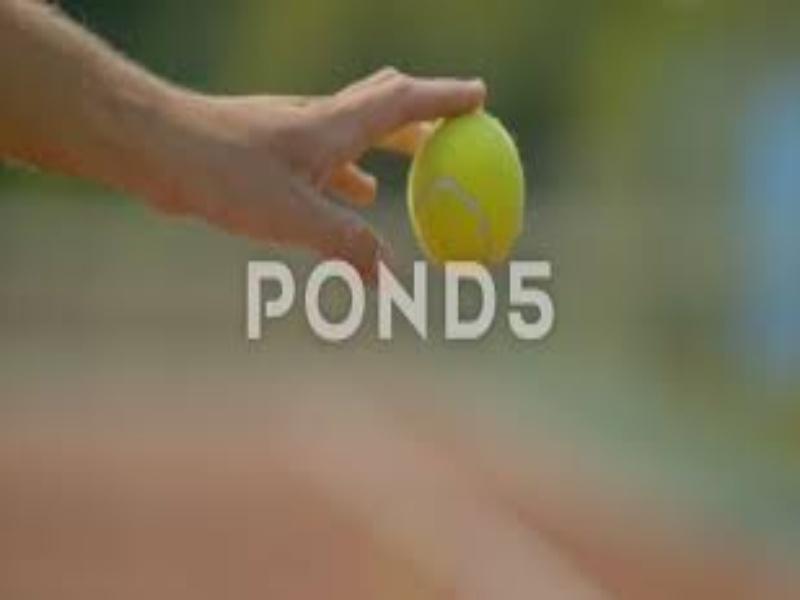tennis ball: (397, 107, 543, 281)
